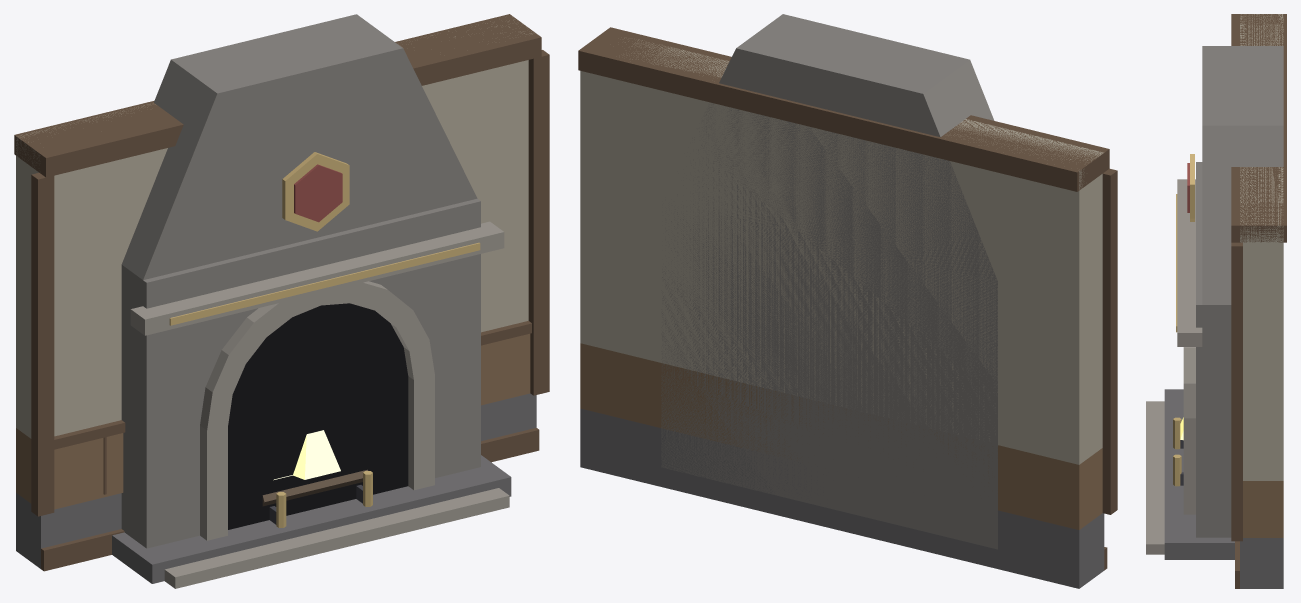
The model's file is hall_hearth.glb.
The picture shows the model from 3 angles, left to right: view 1: azimuth 30°, elevation 25°; view 2: azimuth 150°, elevation 25°; view 3: azimuth 270°, elevation 25°; orthographic projection. The views are drawn at different scales.
Visible parts, largest first — view 1: Upper, Plinth; view 2: Upper, Plinth; view 3: Upper, Plinth.
Boxes of the visible parts, x1,y1,x2,y2 form: Upper: (14,14,549,542); Plinth: (16,393,539,588); Upper: (578,14,1117,549); Plinth: (580,408,1107,588); Upper: (1176,14,1286,541); Plinth: (1146,389,1283,588).
Size of the model in its own units: 8.26 by 7 by 2.25.
